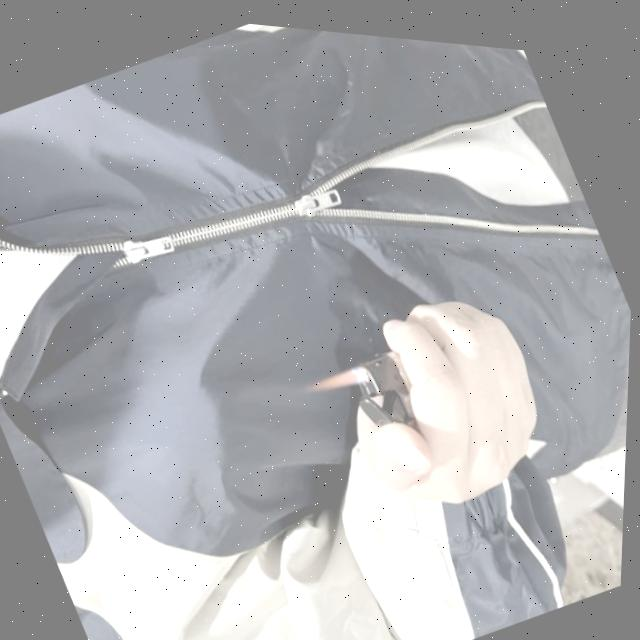Fire: (307, 350, 374, 403)
